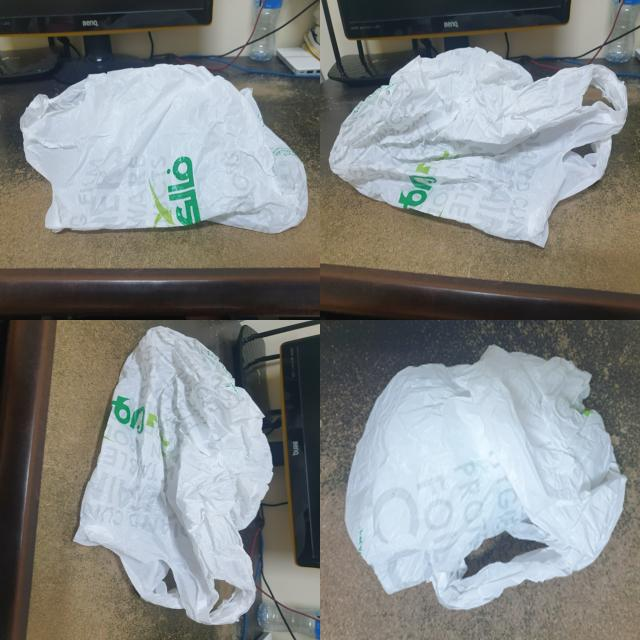Single-layer Plastic: (345, 346, 625, 609), (329, 48, 628, 246), (75, 326, 272, 624), (20, 64, 308, 234)
